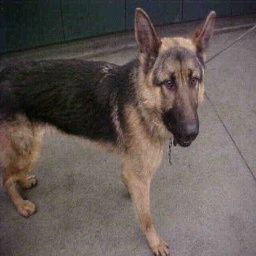dog: (1, 6, 217, 251)
